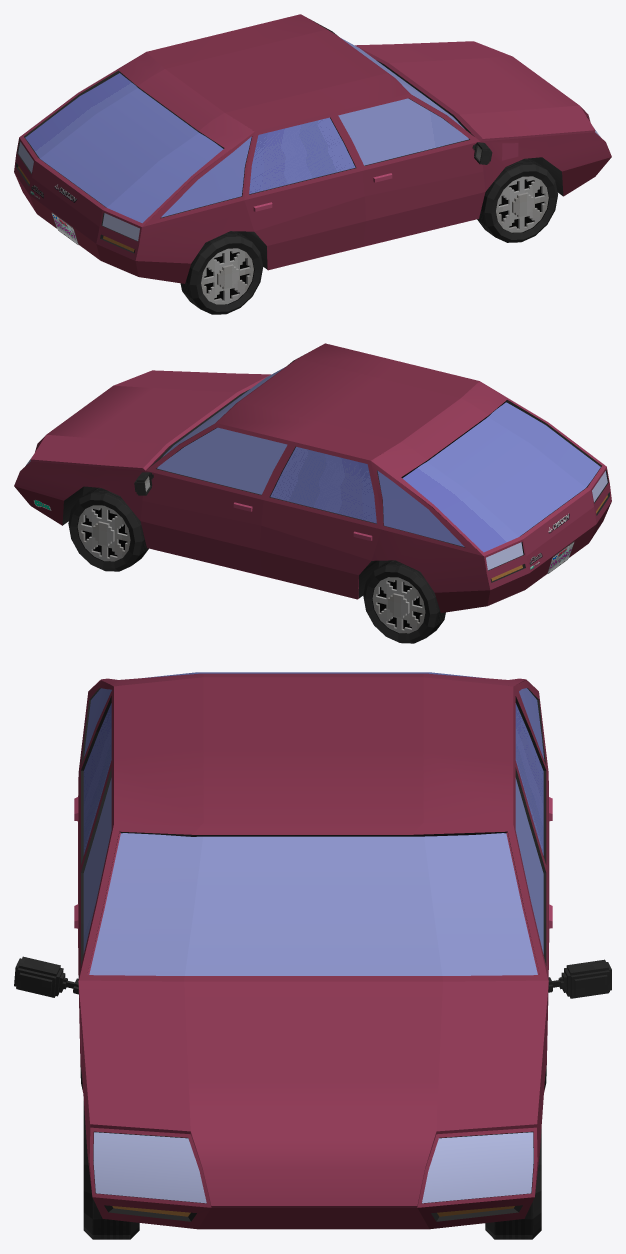
Rendered from Cherry_Flare_EV.fbx.
3 renders of one model, top to bottom at view 1: azimuth 30°, elevation 25°; view 2: azimuth 150°, elevation 25°; view 3: azimuth 270°, elevation 25°, orthographic. The views are drawn at different scales.
Visible parts, largest first — view 1: Cherry_Flare, Trunk_Glass, Door_FR, Door_RR, Trunk, Glass_RR, Glass_FR, Tire_RR, Tire_FR, Glass_2; view 2: Cherry_Flare, Trunk_Glass, Door_FL, Door_RL, Trunk, Glass_RL, Glass_FL, Tire_RL, Tire_FL, Glass_2; view 3: Cherry_Flare, Glass_2, Trunk, Glass_RR, Glass_RL, Glass_FR, Glass_FL, Tire_FR, Door_FL, Door_FR, Mirror_L, Mirror_R (+3 smaller).
Part boxes in pixels (x1,y1,x2,y2): Cherry_Flare: (14, 14, 611, 283); Trunk_Glass: (25, 73, 223, 223); Door_FR: (332, 94, 485, 246); Door_RR: (244, 113, 365, 270); Trunk: (19, 52, 254, 226); Glass_RR: (249, 117, 355, 194); Glass_FR: (338, 98, 468, 165); Tire_RR: (180, 231, 263, 314); Tire_FR: (477, 158, 557, 242); Glass_2: (18, 38, 600, 240); Cherry_Flare: (14, 343, 611, 612); Trunk_Glass: (402, 402, 600, 552); Door_FL: (140, 423, 293, 575); Door_RL: (260, 442, 381, 599); Trunk: (371, 381, 606, 556); Glass_RL: (270, 447, 376, 523); Glass_FL: (157, 427, 287, 494); Tire_RL: (363, 560, 445, 643); Tire_FL: (68, 487, 148, 571); Glass_2: (25, 367, 607, 570); Cherry_Flare: (78, 677, 549, 1229); Glass_2: (84, 688, 544, 1203); Trunk: (91, 673, 536, 689); Glass_RR: (83, 703, 111, 855); Glass_RL: (515, 703, 543, 855); Glass_FR: (83, 778, 111, 953); Glass_FL: (515, 778, 543, 954); Tire_FR: (83, 1101, 139, 1239); Door_FL: (506, 756, 549, 1092); Door_FR: (78, 756, 120, 1092); Mirror_L: (548, 959, 611, 998); Mirror_R: (14, 956, 78, 997).
Bounding box in the file's own units: 273 × 89.39 × 153.
Materials: 6 (6 with a texture image).
